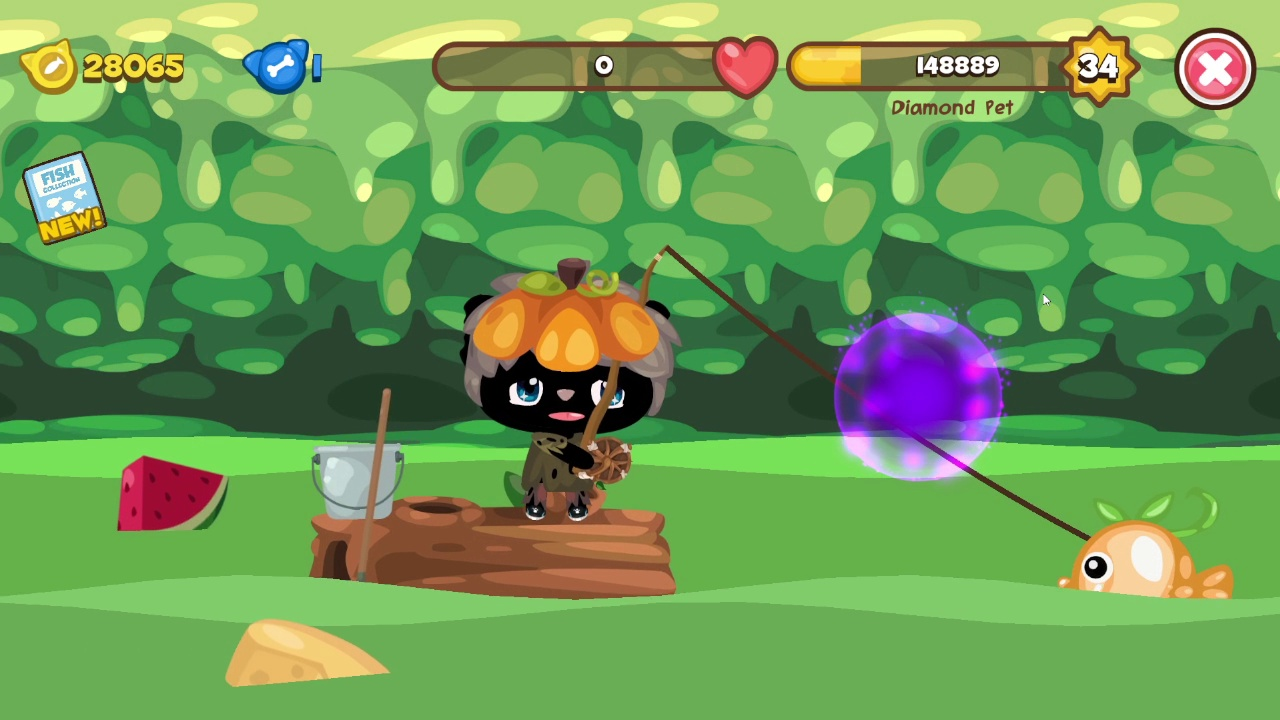point: (832, 312, 1006, 480)
